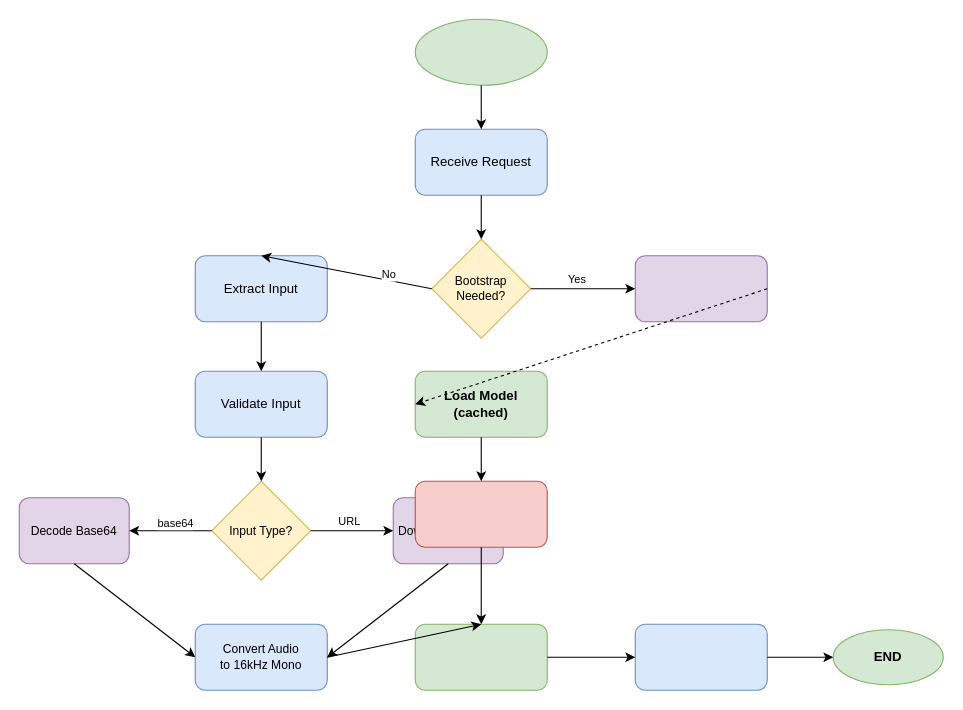
Image size: 963x710. Some labels were removed from this diagram. Here are the shapes that lost their labels. From the top down, the centre of each, then its label:
At (480,51): "START".
At (700,288): "Install Dependencies to Volume".
At (480,513): "Disable CUDA Graphs".
At (480,656): "Transcribe Audio".
At (700,656): "Return Response {text, success}".
